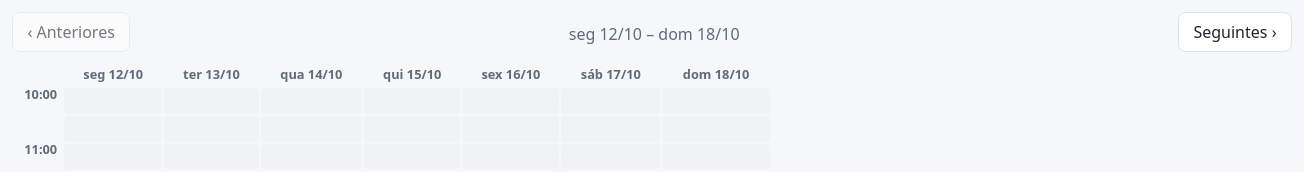
Scenario: pagina quando há mais dias do que cabem
This screenshot has width=1304, height=172.
Click the button "Seguintes ›".
click(1235, 32)  # box [1178,12,1292,52]
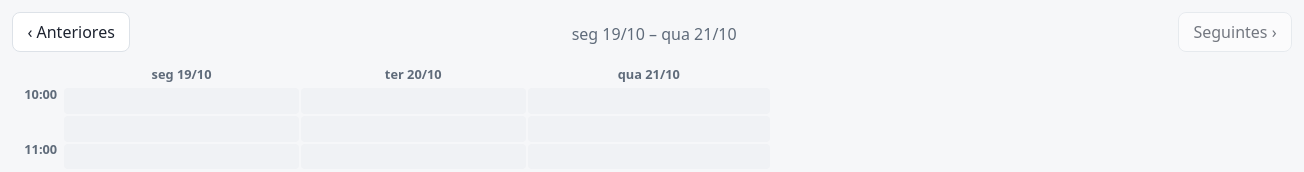
Now the button "Seguintes ›" is disabled, box [1178,12,1292,52]
